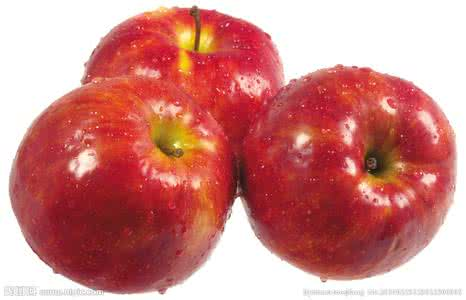apple: (11, 81, 235, 294), (239, 67, 466, 276), (87, 2, 282, 139)
